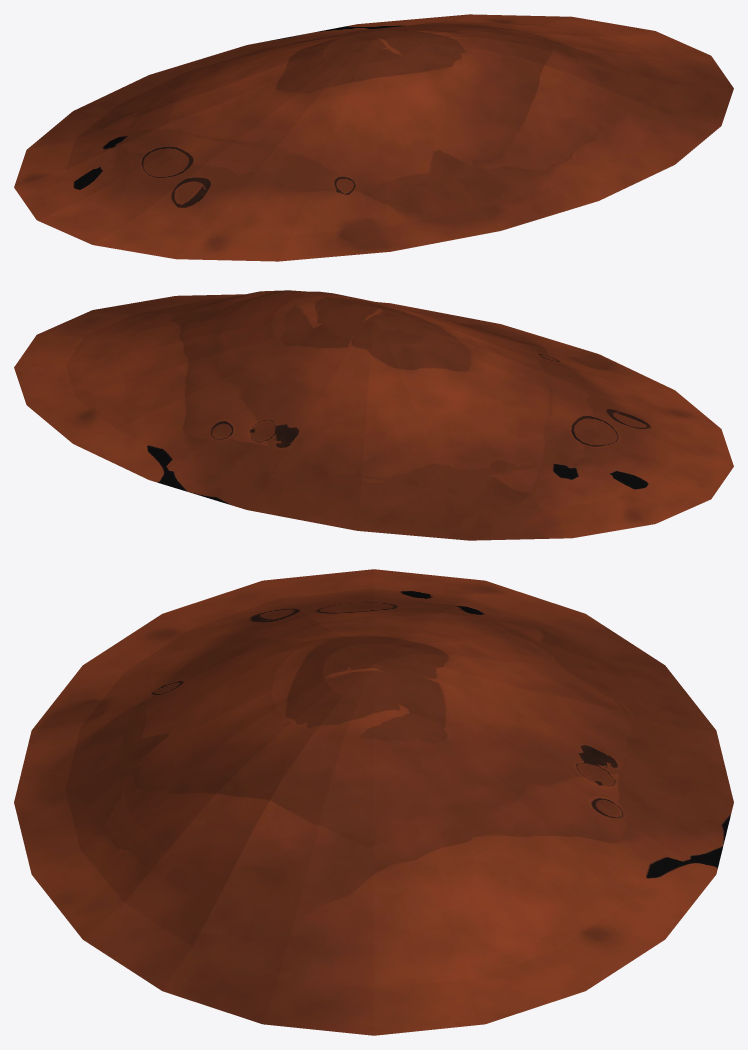
The model's file is dust_mound.glb.
3 views of the same model, one above another, from view 1: azimuth 30°, elevation 25°; view 2: azimuth 150°, elevation 25°; view 3: azimuth 270°, elevation 25° (orthographic). The views are drawn at different scales.
Parts seen in each view (by area): view 1: dust_mound; view 2: dust_mound; view 3: dust_mound.
Boxes of the visible parts, left/top/right/bottom form: dust_mound: left=14, top=14, right=733, bottom=261; dust_mound: left=14, top=290, right=733, bottom=540; dust_mound: left=14, top=569, right=733, bottom=1035.
Bounding box in the file's own units: 4.6 × 0.6377 × 3.
Materials: 1 (1 with a texture image).
